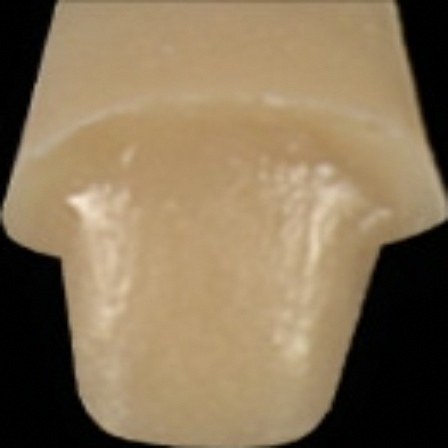coin_1: (61, 260, 81, 280)
coin_2: (79, 396, 99, 416)
coin_3: (381, 245, 401, 265)
coin_4: (330, 404, 350, 424)
